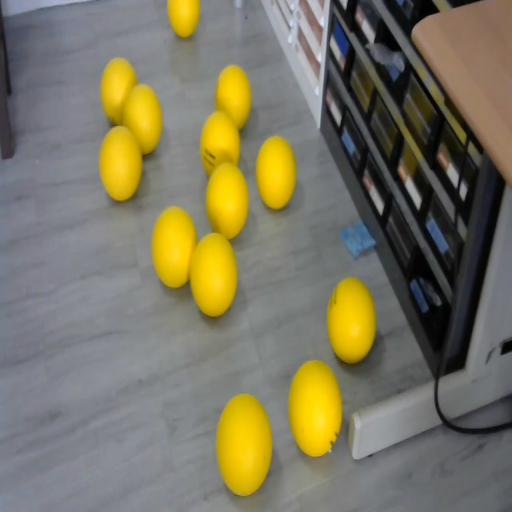FUEL: (215, 392, 272, 495), (287, 358, 343, 456), (188, 230, 239, 316), (326, 277, 376, 364), (151, 205, 197, 288), (98, 126, 144, 202), (205, 162, 249, 239), (256, 135, 296, 209), (100, 57, 138, 125), (215, 64, 252, 129), (168, 0, 200, 39)
